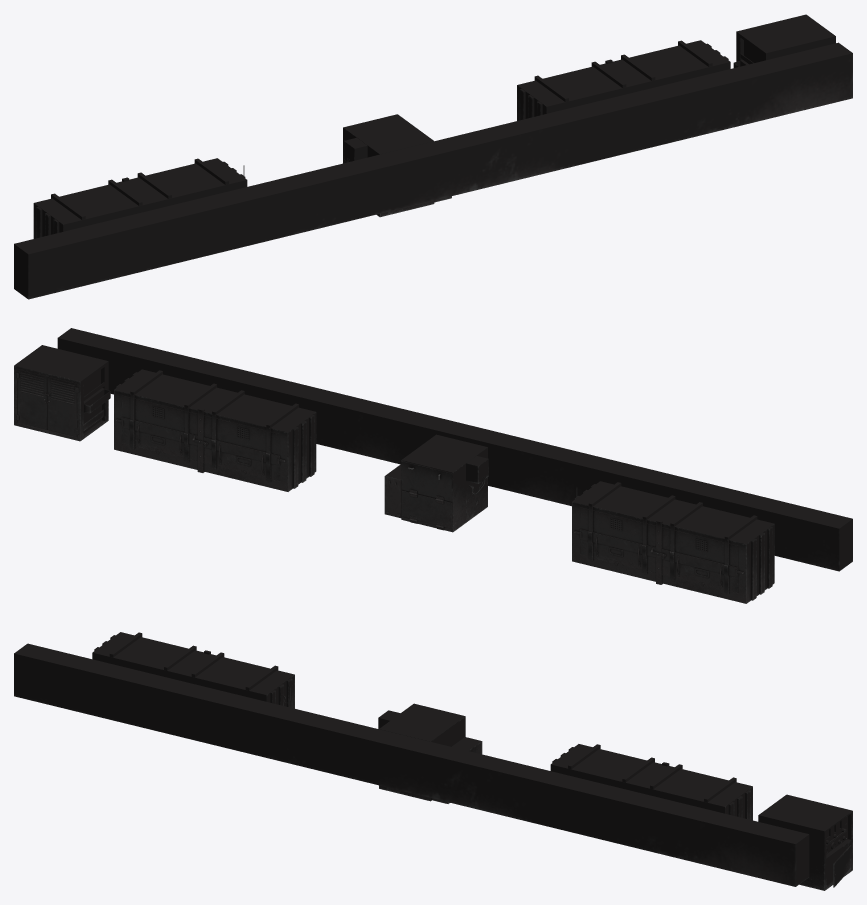
File: SM_Below.fbx
The picture shows the model from 3 angles, top to bottom: view 1: azimuth 30°, elevation 25°; view 2: azimuth 150°, elevation 25°; view 3: azimuth 330°, elevation 25°; orthographic projection. The views are drawn at different scales.
Parts seen in each view (by area): view 1: SM_Below; view 2: SM_Below; view 3: SM_Below.
Boxes of the visible parts, <box> form: SM_Below: <box>14,14,852,299</box>; SM_Below: <box>14,328,852,603</box>; SM_Below: <box>14,632,852,890</box>.
Size of the model in its own units: 1482 by 170 by 114.
1 material, 1 textured.
